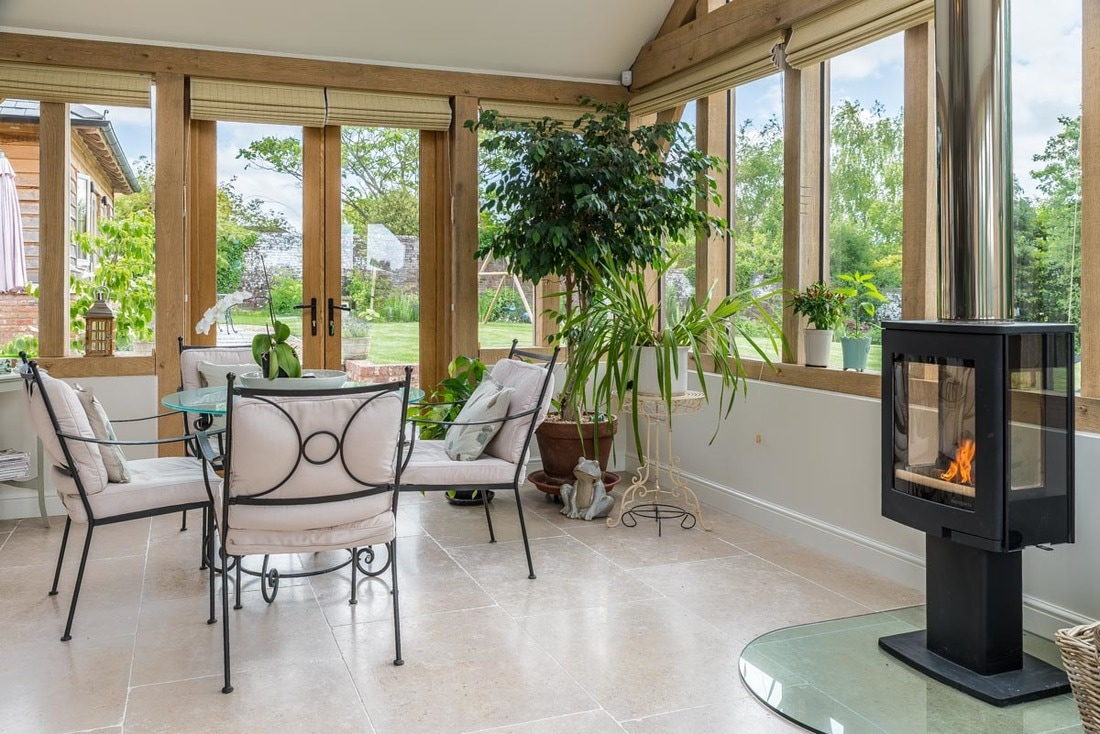chair: (211, 372, 406, 693), (16, 352, 214, 639), (399, 341, 561, 582)
